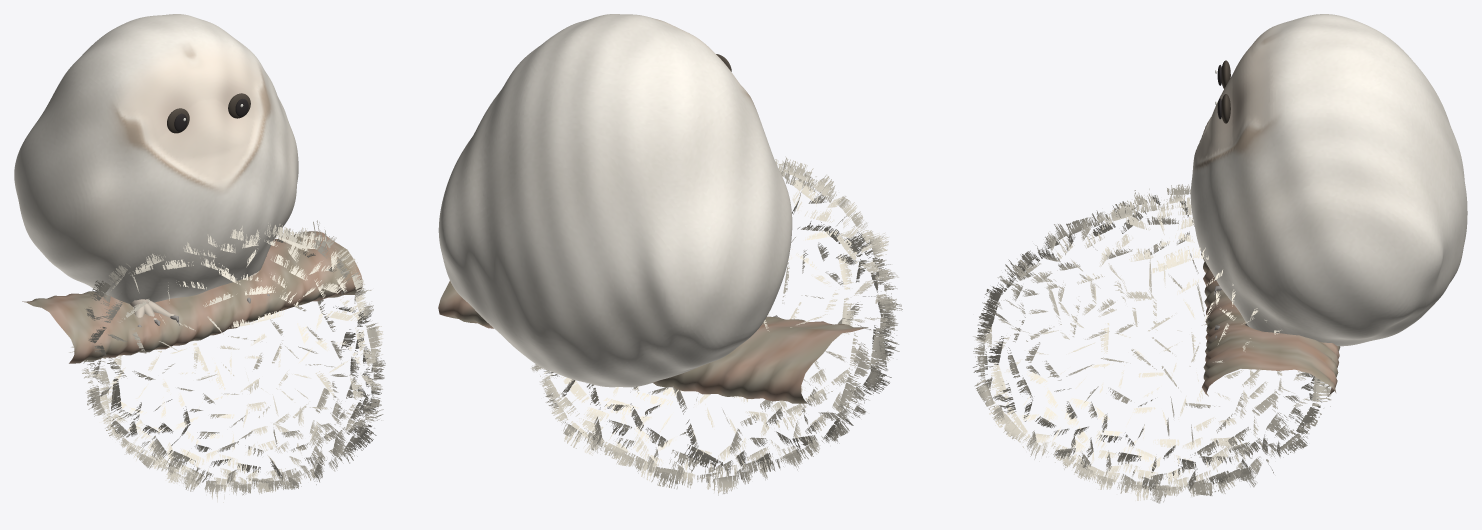
The model's file is owl172_run94_raw_cards_alpha_UNAPPROVED.glb.
3 views of the same model, side by side, from view 1: azimuth 30°, elevation 25°; view 2: azimuth 150°, elevation 25°; view 3: azimuth 270°, elevation 25° (orthographic). The views are drawn at different scales.
Parts seen in each view (by area): view 1: ORGANIC_CONNECTED_HEAD_BODY_HEART_RELIEF, Run94_GroomLab_real_3D_cards_PROVISIONAL, TEMPORARY_BARK_SUPPORT_RESEARCH_ONLY; view 2: ORGANIC_CONNECTED_HEAD_BODY_HEART_RELIEF, Run94_GroomLab_real_3D_cards_PROVISIONAL, TEMPORARY_BARK_SUPPORT_RESEARCH_ONLY; view 3: ORGANIC_CONNECTED_HEAD_BODY_HEART_RELIEF, Run94_GroomLab_real_3D_cards_PROVISIONAL, TEMPORARY_BARK_SUPPORT_RESEARCH_ONLY.
Boxes of the visible parts, left/top/right/bottom form: ORGANIC_CONNECTED_HEAD_BODY_HEART_RELIEF: left=14, top=14, right=298, bottom=303; Run94_GroomLab_real_3D_cards_PROVISIONAL: left=69, top=220, right=385, bottom=502; TEMPORARY_BARK_SUPPORT_RESEARCH_ONLY: left=22, top=231, right=362, bottom=363; ORGANIC_CONNECTED_HEAD_BODY_HEART_RELIEF: left=438, top=14, right=792, bottom=387; Run94_GroomLab_real_3D_cards_PROVISIONAL: left=530, top=156, right=902, bottom=495; TEMPORARY_BARK_SUPPORT_RESEARCH_ONLY: left=438, top=281, right=867, bottom=403; ORGANIC_CONNECTED_HEAD_BODY_HEART_RELIEF: left=1190, top=14, right=1467, bottom=346; Run94_GroomLab_real_3D_cards_PROVISIONAL: left=973, top=184, right=1331, bottom=503; TEMPORARY_BARK_SUPPORT_RESEARCH_ONLY: left=1201, top=253, right=1340, bottom=397.
Bounding box in the file's own units: 1.32 × 1.83 × 1.77.
Materials: 2 (1 with a texture image).
